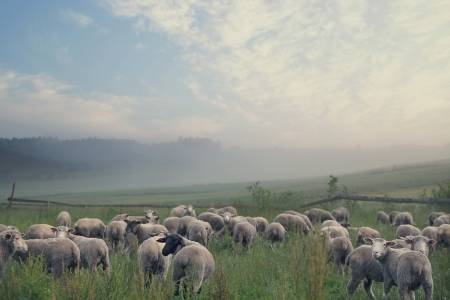sheep: (364, 234, 436, 300), (3, 228, 82, 278), (160, 233, 215, 297), (54, 222, 113, 274), (134, 227, 168, 285), (320, 228, 354, 276), (273, 210, 313, 238), (231, 220, 258, 251), (185, 221, 208, 243), (172, 203, 199, 219), (53, 208, 72, 228)
